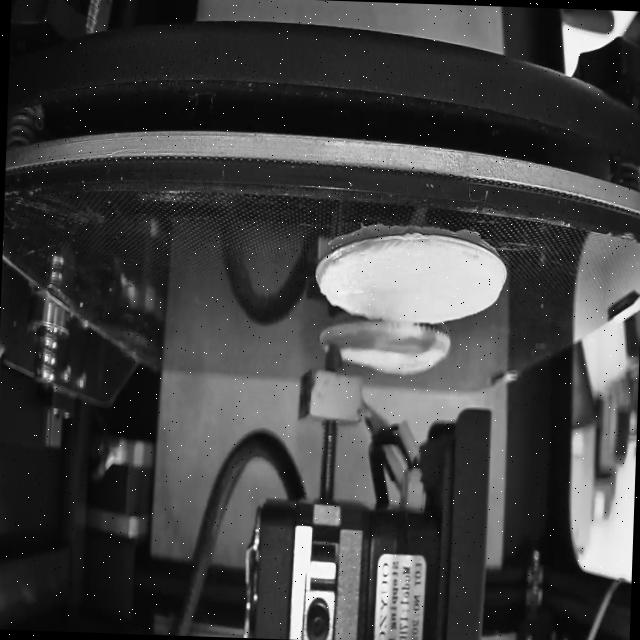over_extrusion: (314, 249, 339, 294)
